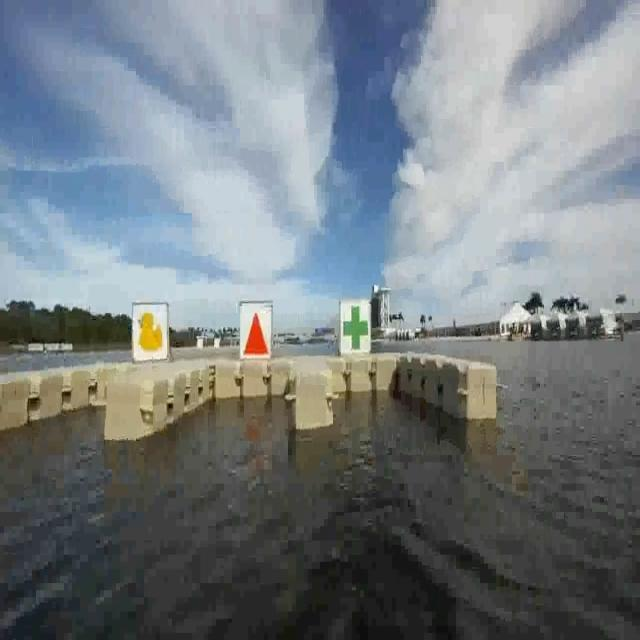blue-cross: (341, 300, 373, 360)
red-dot: (240, 299, 274, 363)
yellow-duck: (129, 300, 168, 362)
